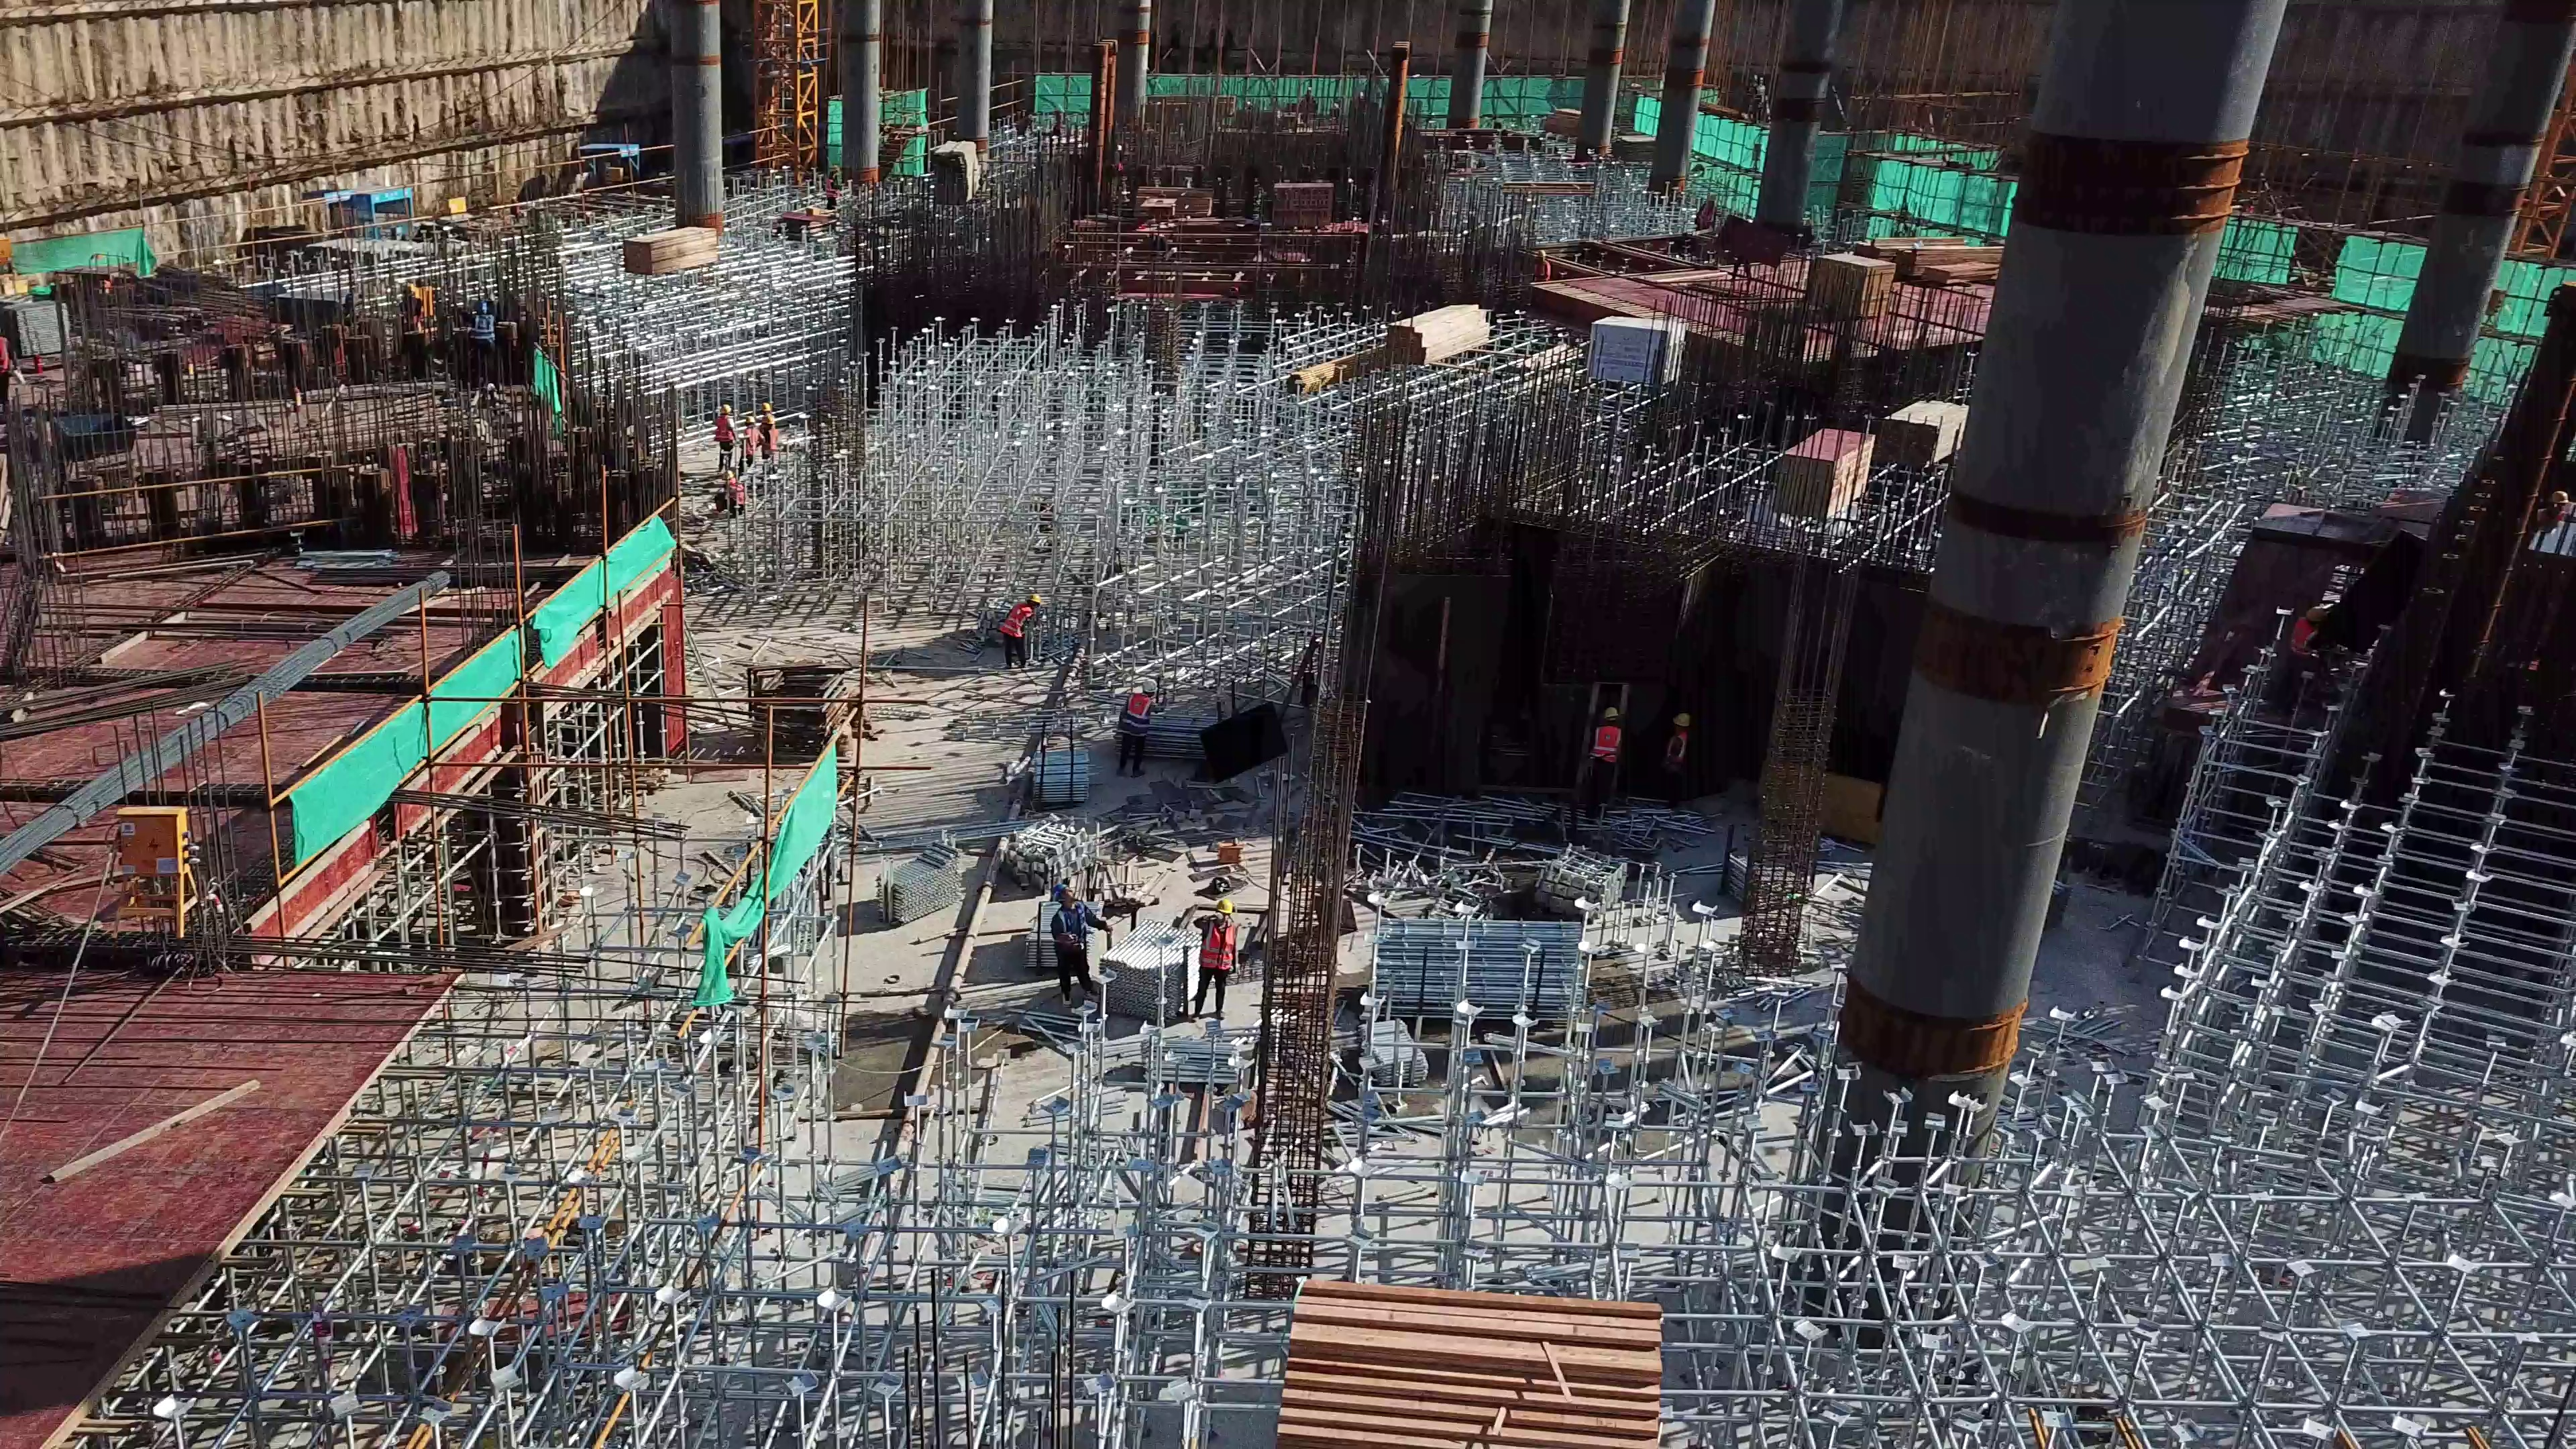board: (1776, 429, 1864, 511), (1813, 252, 1884, 312), (779, 212, 825, 234)
cutter: (1144, 199, 1178, 215)
ebox: (116, 808, 211, 924)
helmet: (1601, 706, 1624, 723), (1140, 678, 1159, 693), (2551, 489, 2567, 506), (1216, 901, 1234, 915), (2309, 608, 2323, 623), (1053, 883, 1065, 898), (761, 402, 773, 418), (1026, 593, 1040, 605), (478, 299, 488, 314), (1537, 247, 1549, 260), (1676, 714, 1685, 726), (722, 401, 731, 411)
hopper: (48, 408, 133, 454)
person: (1050, 881, 1111, 997), (1195, 901, 1236, 1020), (2279, 604, 2328, 700), (1115, 676, 1160, 775), (1585, 704, 1621, 811), (1000, 594, 1041, 667), (2534, 485, 2573, 544), (465, 303, 498, 376), (1666, 712, 1689, 805), (398, 282, 424, 343), (713, 404, 736, 472), (736, 417, 761, 472), (3, 330, 19, 410), (718, 472, 745, 514), (823, 162, 841, 217), (1697, 192, 1716, 231), (1530, 248, 1550, 284), (762, 413, 779, 456), (759, 400, 770, 433)
rebar: (5, 565, 468, 867)
scaffold: (1374, 917, 1593, 1018), (1104, 914, 1191, 1008), (891, 841, 957, 918), (1154, 1033, 1241, 1088), (1348, 1021, 1418, 1084), (6, 288, 66, 360), (1034, 742, 1089, 796), (1148, 714, 1205, 761), (1727, 858, 1756, 908)
slogan: (312, 189, 416, 207)
vest: (1203, 916, 1234, 970), (1118, 694, 1150, 736), (1057, 903, 1085, 948), (1594, 726, 1617, 762), (2292, 616, 2311, 655), (1006, 604, 1030, 629), (471, 315, 492, 342), (716, 415, 732, 443), (1670, 733, 1686, 759), (1535, 260, 1552, 280), (746, 425, 755, 455), (826, 178, 839, 198), (1, 336, 9, 372), (1702, 203, 1711, 222)
wood: (1275, 1283, 1659, 1443), (1882, 234, 1997, 291), (1387, 305, 1489, 362), (620, 225, 720, 278), (1878, 404, 1964, 460), (1137, 184, 1211, 215), (1504, 176, 1595, 198)
